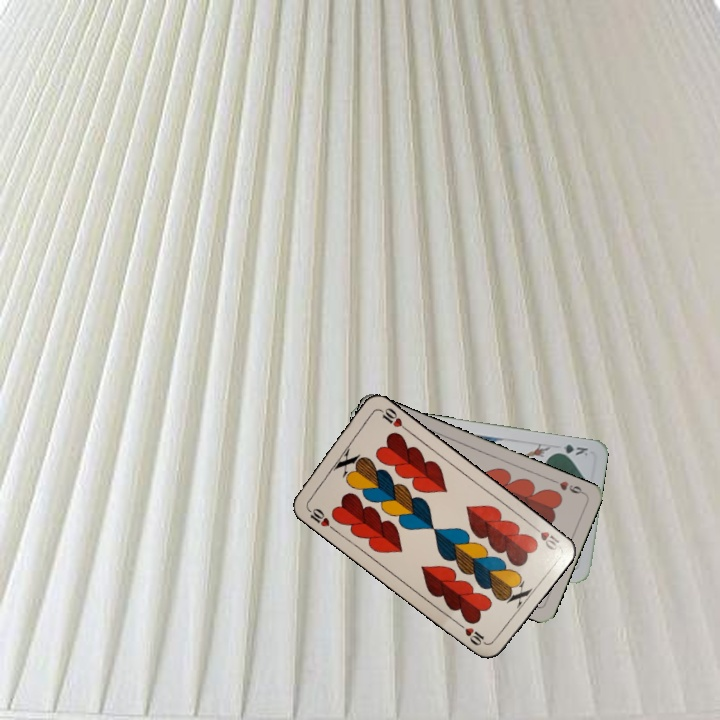GK: (551, 440, 591, 459)
H10: (528, 520, 564, 554), (303, 503, 337, 533)
H9: (548, 475, 587, 497)
